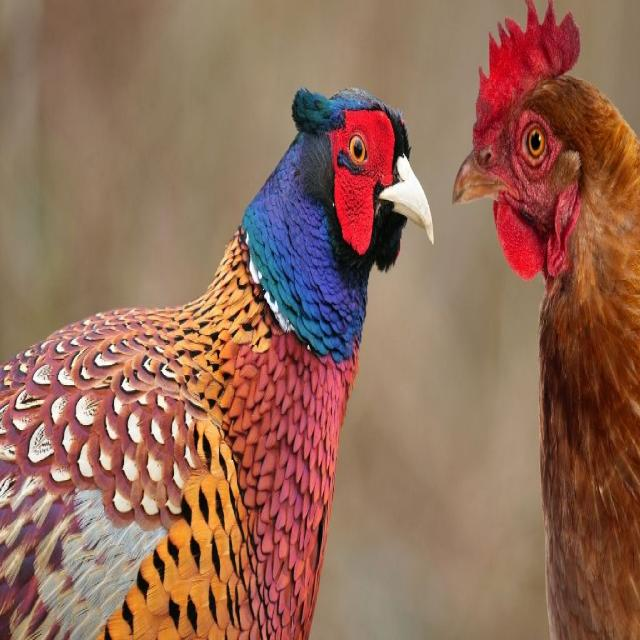pheasant: (8, 84, 433, 634)
